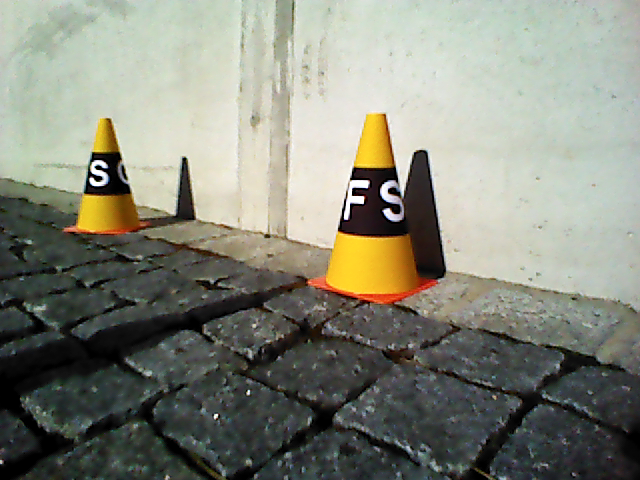yellowcone: (332, 113, 418, 291), (77, 120, 136, 231)
